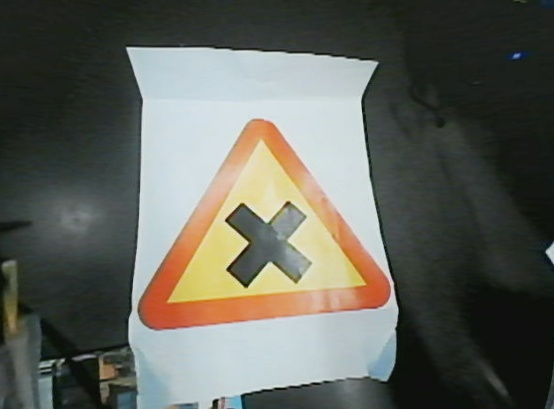junction: (121, 105, 414, 332)
